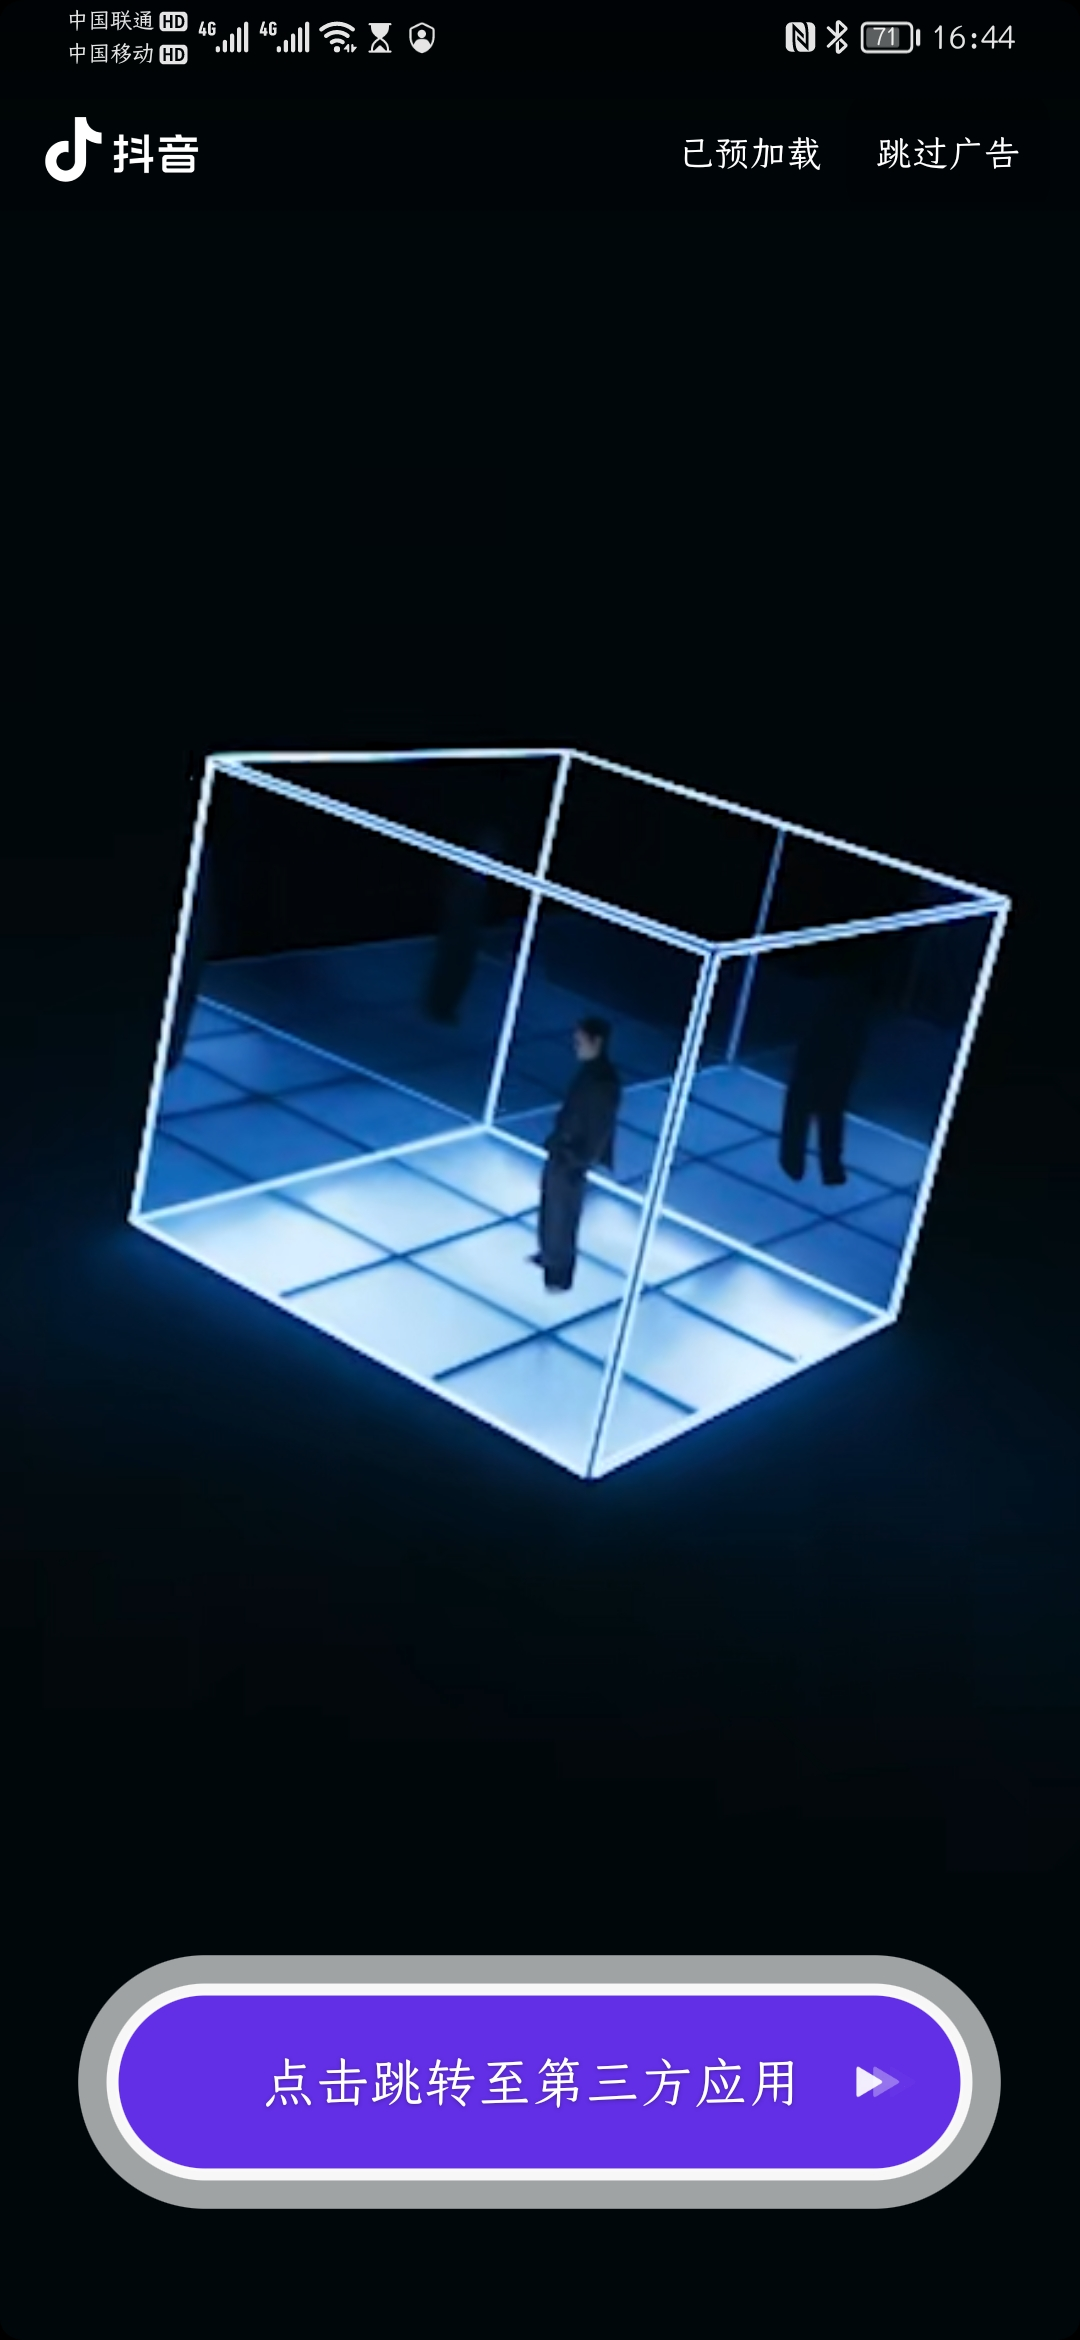skip: (865, 122, 1040, 194)
